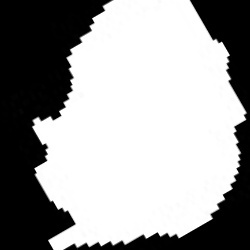spot: (31, 2, 246, 248)
